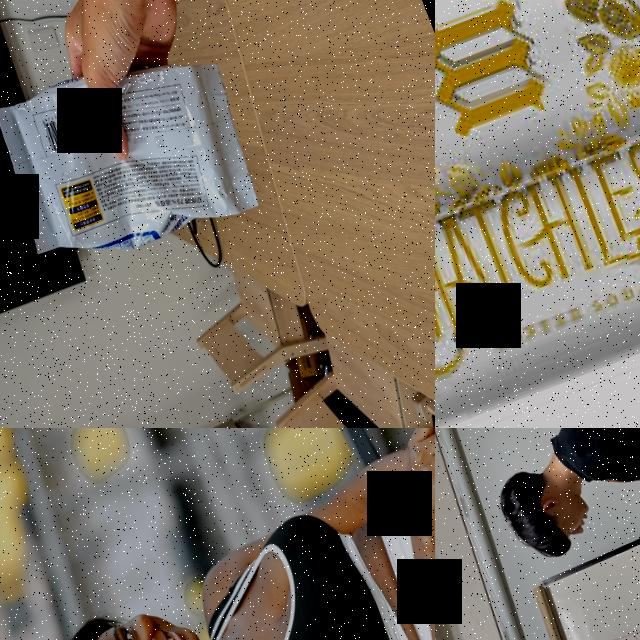can: (435, 77, 640, 428), (435, 0, 640, 273)
